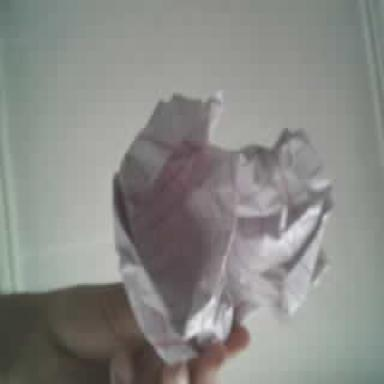paper: (114, 93, 331, 363)
